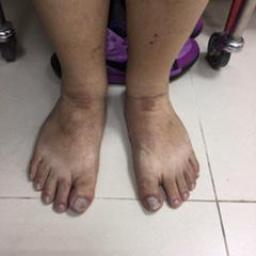Dorsal View -Both Feet-: (23, 45, 207, 224)
